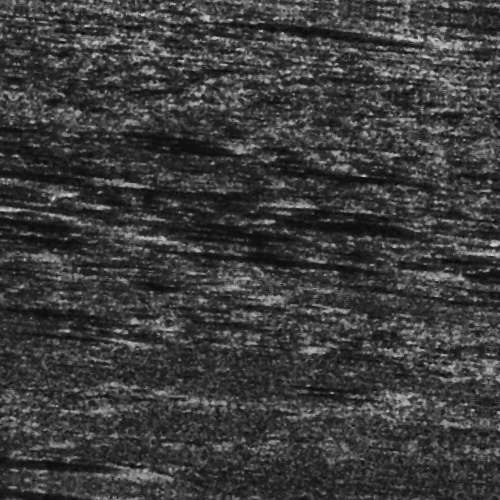object: (77, 323, 160, 336), (376, 250, 491, 259), (121, 476, 204, 487), (359, 19, 442, 30), (0, 222, 62, 235), (261, 193, 324, 202), (425, 214, 500, 221), (82, 189, 155, 196), (424, 164, 497, 169), (109, 253, 172, 258), (104, 346, 167, 351)
shadow: (235, 19, 401, 30), (90, 193, 292, 202), (252, 250, 433, 259), (0, 323, 118, 336), (49, 476, 163, 487), (331, 214, 472, 221), (0, 189, 118, 196), (317, 164, 460, 169), (51, 346, 135, 351), (63, 253, 140, 258)
